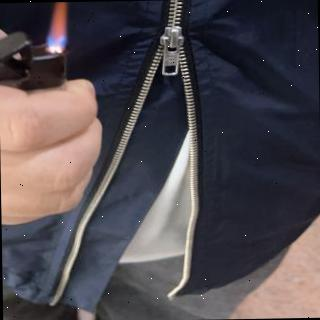fire: (45, 2, 71, 54)
